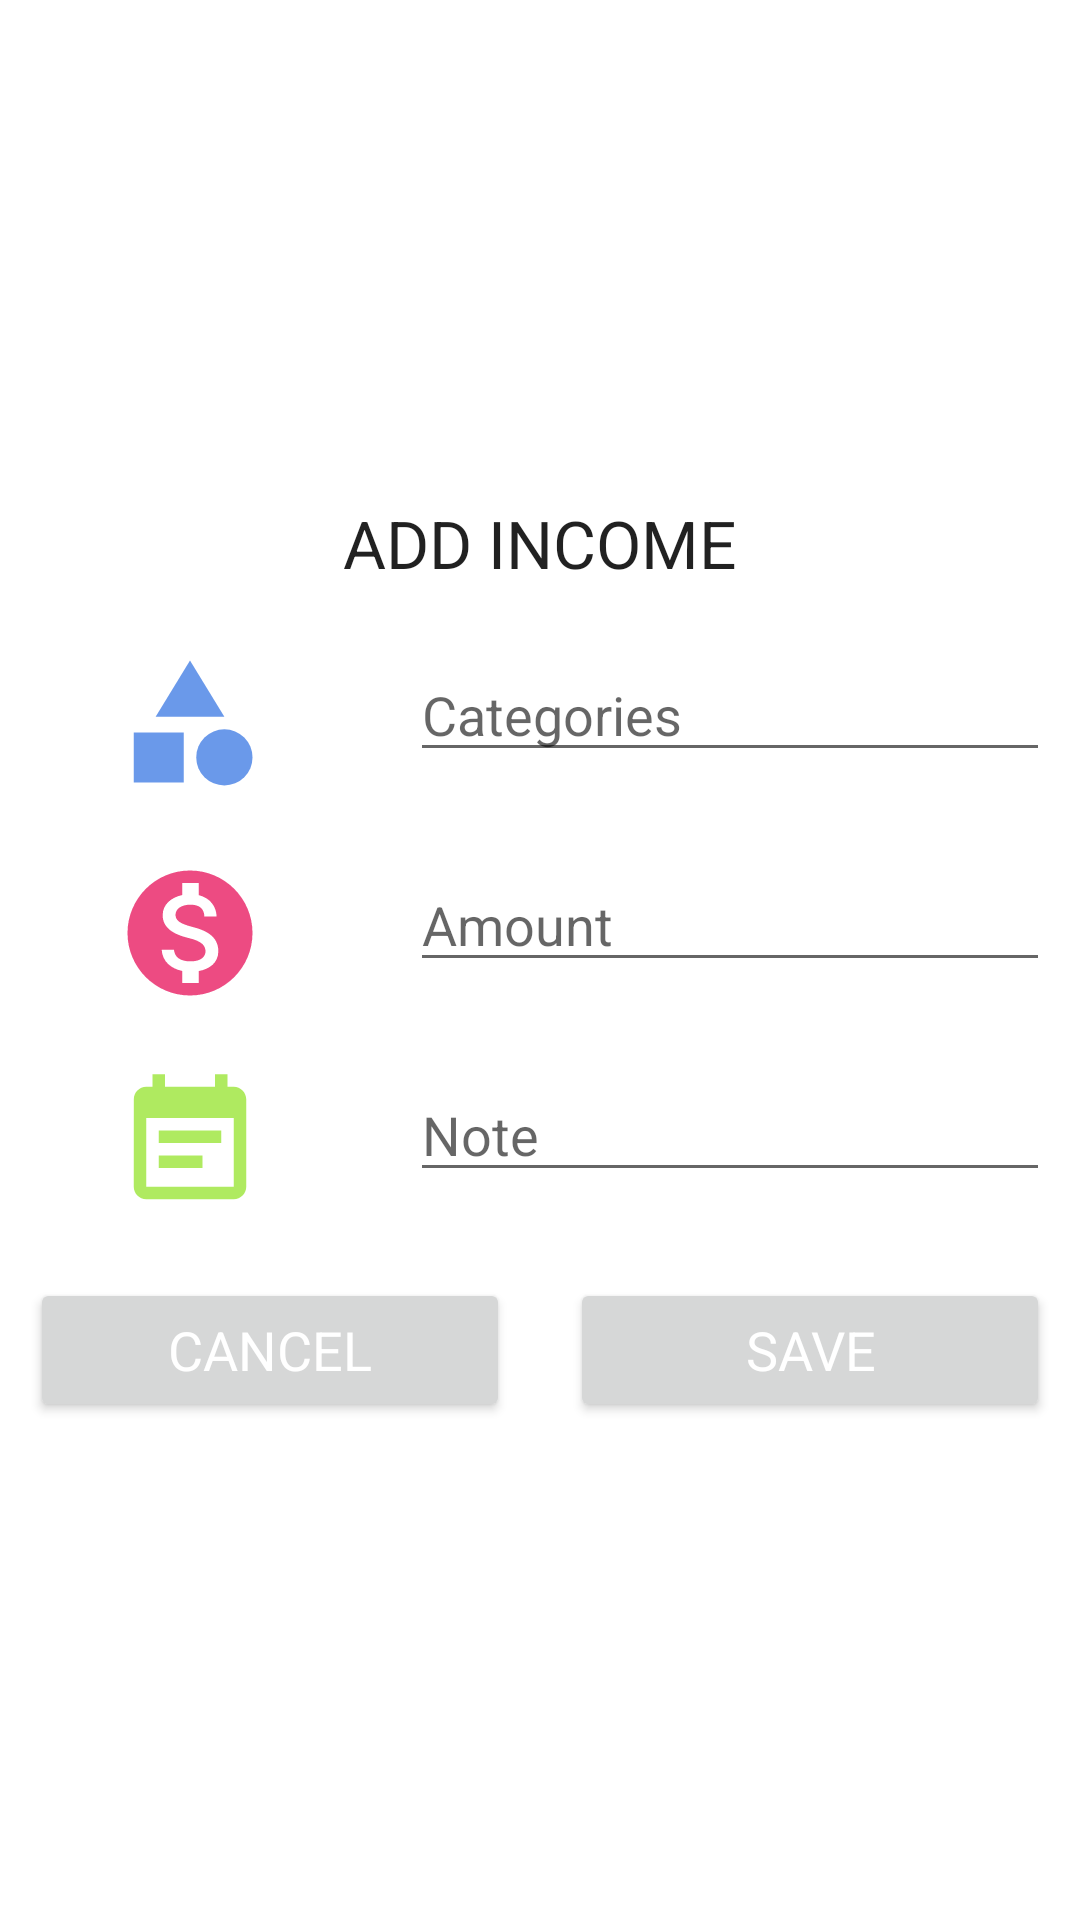

Where to tap for icons on this 1080px x 1920px app screen, as [x,y]:
category: [193,723]
money: [190,933]
